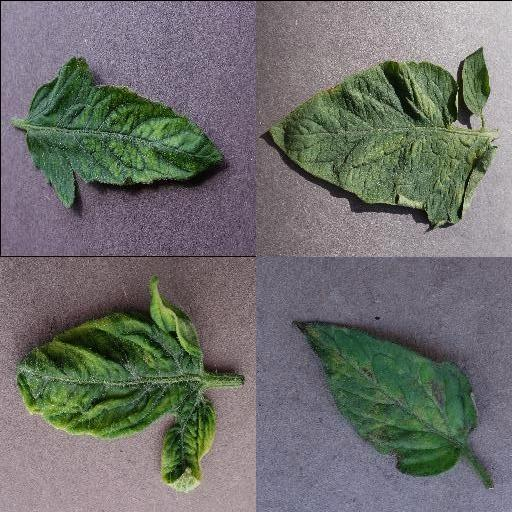Leaf Mold: (293, 320, 479, 476)
Mosaic Virus: (25, 55, 225, 215)
Spider Mites: (268, 59, 498, 227)
Yellow Leaf Curl Virus: (16, 276, 216, 492)
